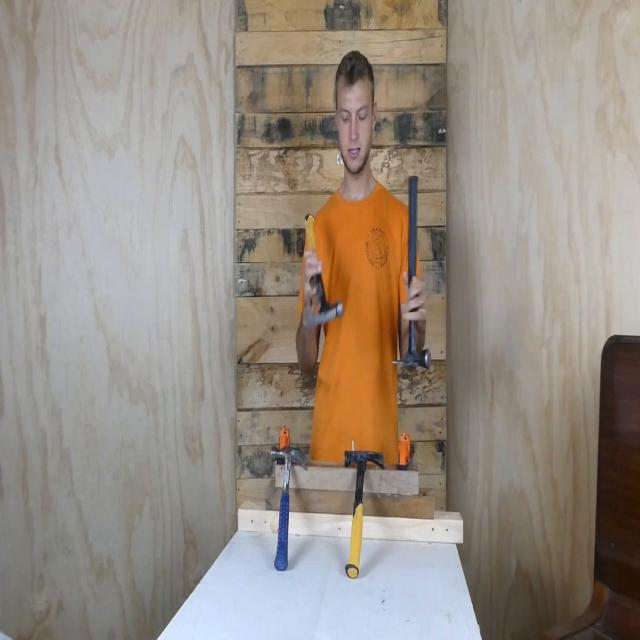hammer: (389, 173, 435, 376), (337, 443, 387, 582), (298, 207, 346, 337), (265, 443, 311, 577)
